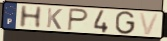4: (93, 9, 110, 34)
G: (114, 10, 137, 36)
H: (18, 5, 44, 29)
K: (45, 7, 64, 31)
P: (67, 7, 90, 32)
V: (138, 12, 162, 36)
